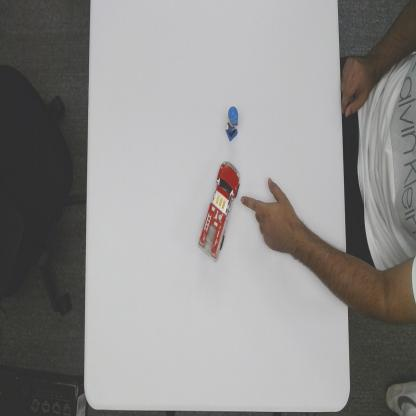Arm: (292, 217, 348, 302)
Firetruck: (197, 159, 241, 259)
Hand: (241, 179, 294, 256)
